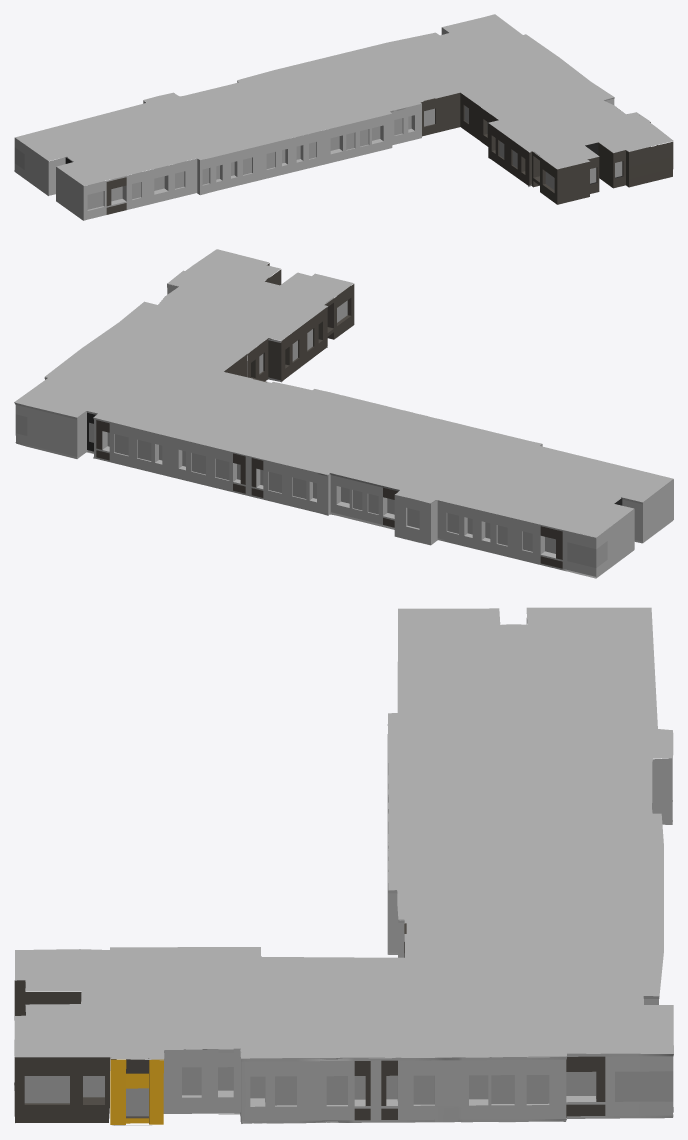
File: cut8-9.glb
3 renders of one model, top to bottom at view 1: azimuth 30°, elevation 25°; view 2: azimuth 150°, elevation 25°; view 3: azimuth 270°, elevation 25°, orthographic. The views are drawn at different scales.
Parts seen in each view (by area): view 1: polySurface8 (×4); view 2: polySurface8 (×5); view 3: polySurface8 (×6).
Part boxes in pixels (box(x1,y1,x2,y2)): polySurface8 (×4): box(14, 14, 673, 220); polySurface8 (×5): box(14, 249, 673, 578); polySurface8 (×6): box(14, 607, 673, 1125).
Size of the model in its own units: 4.46 by 0.3148 by 2.75.
Materials: 9 (9 with a texture image).
